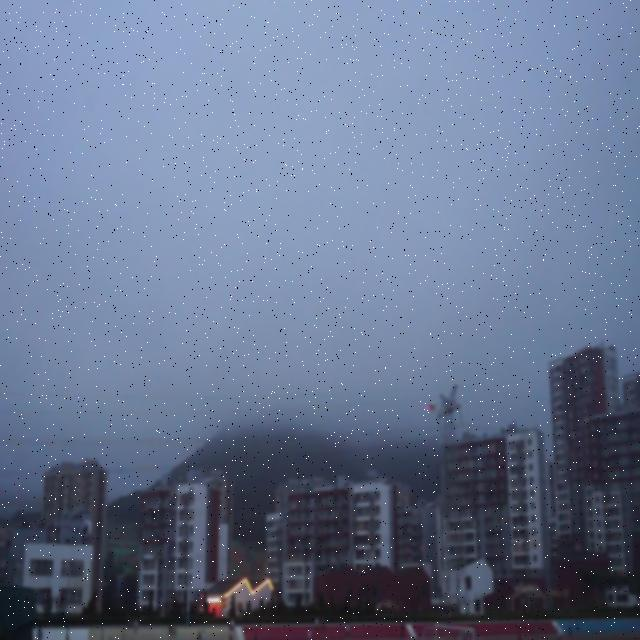UAV: (426, 402, 437, 412)
